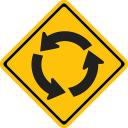Rotatoria: (16, 26, 110, 104)
